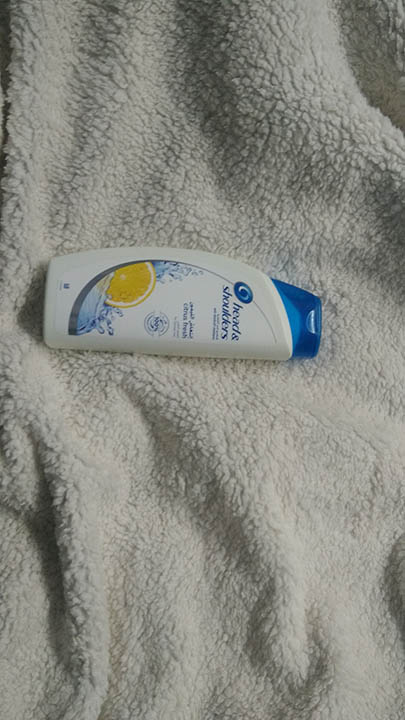shampoo-Lemon 3.5$: (26, 238, 335, 392)
